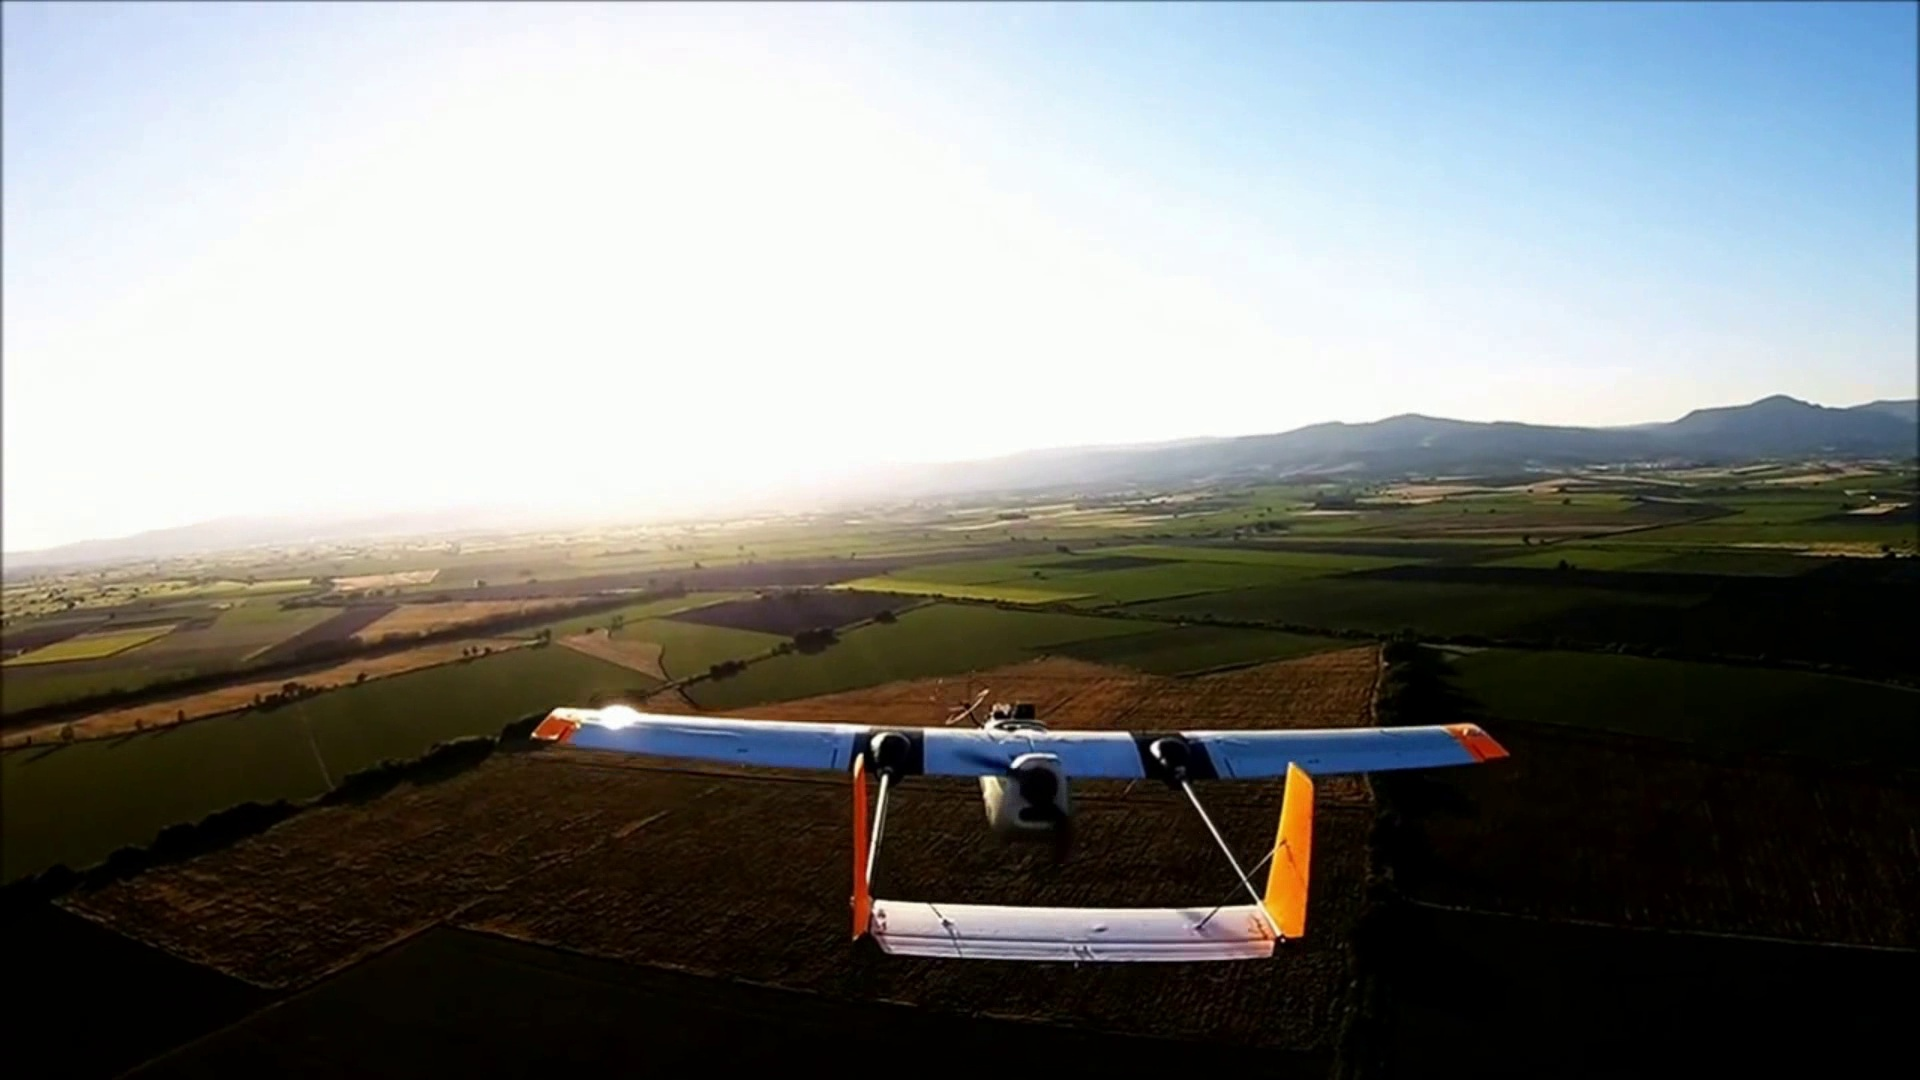airplane: (527, 703, 1513, 967)
